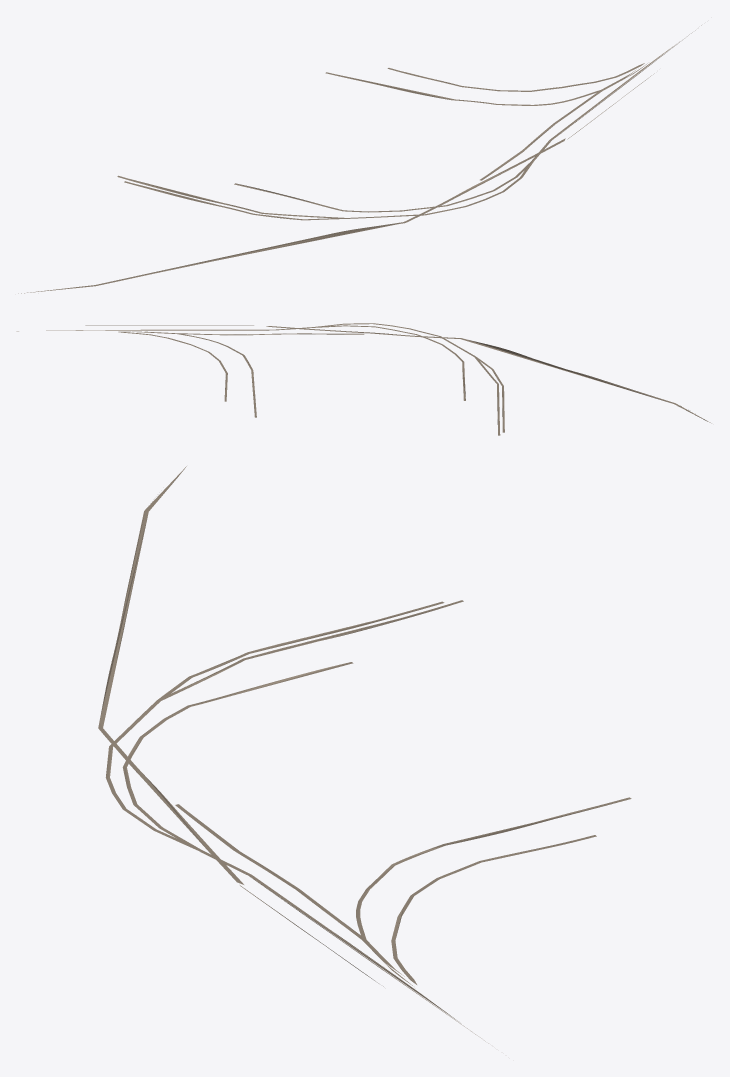
Rendered from rail_3_1.glb.
3 views of the same model, one above another, from view 1: azimuth 30°, elevation 25°; view 2: azimuth 150°, elevation 25°; view 3: azimuth 270°, elevation 25° (orthographic). The views are drawn at different scales.
Visible parts, largest first — view 1: geometry_0; view 2: geometry_0; view 3: geometry_0.
Boxes of the visible parts, x1=… form: geometry_0: x1=18, y1=25, x2=701, y2=293; geometry_0: x1=16, y1=323, x2=711, y2=435; geometry_0: x1=98, y1=466, x2=631, y2=1043.
Bounding box in the file's own units: 1191 × 10.16 × 444.
